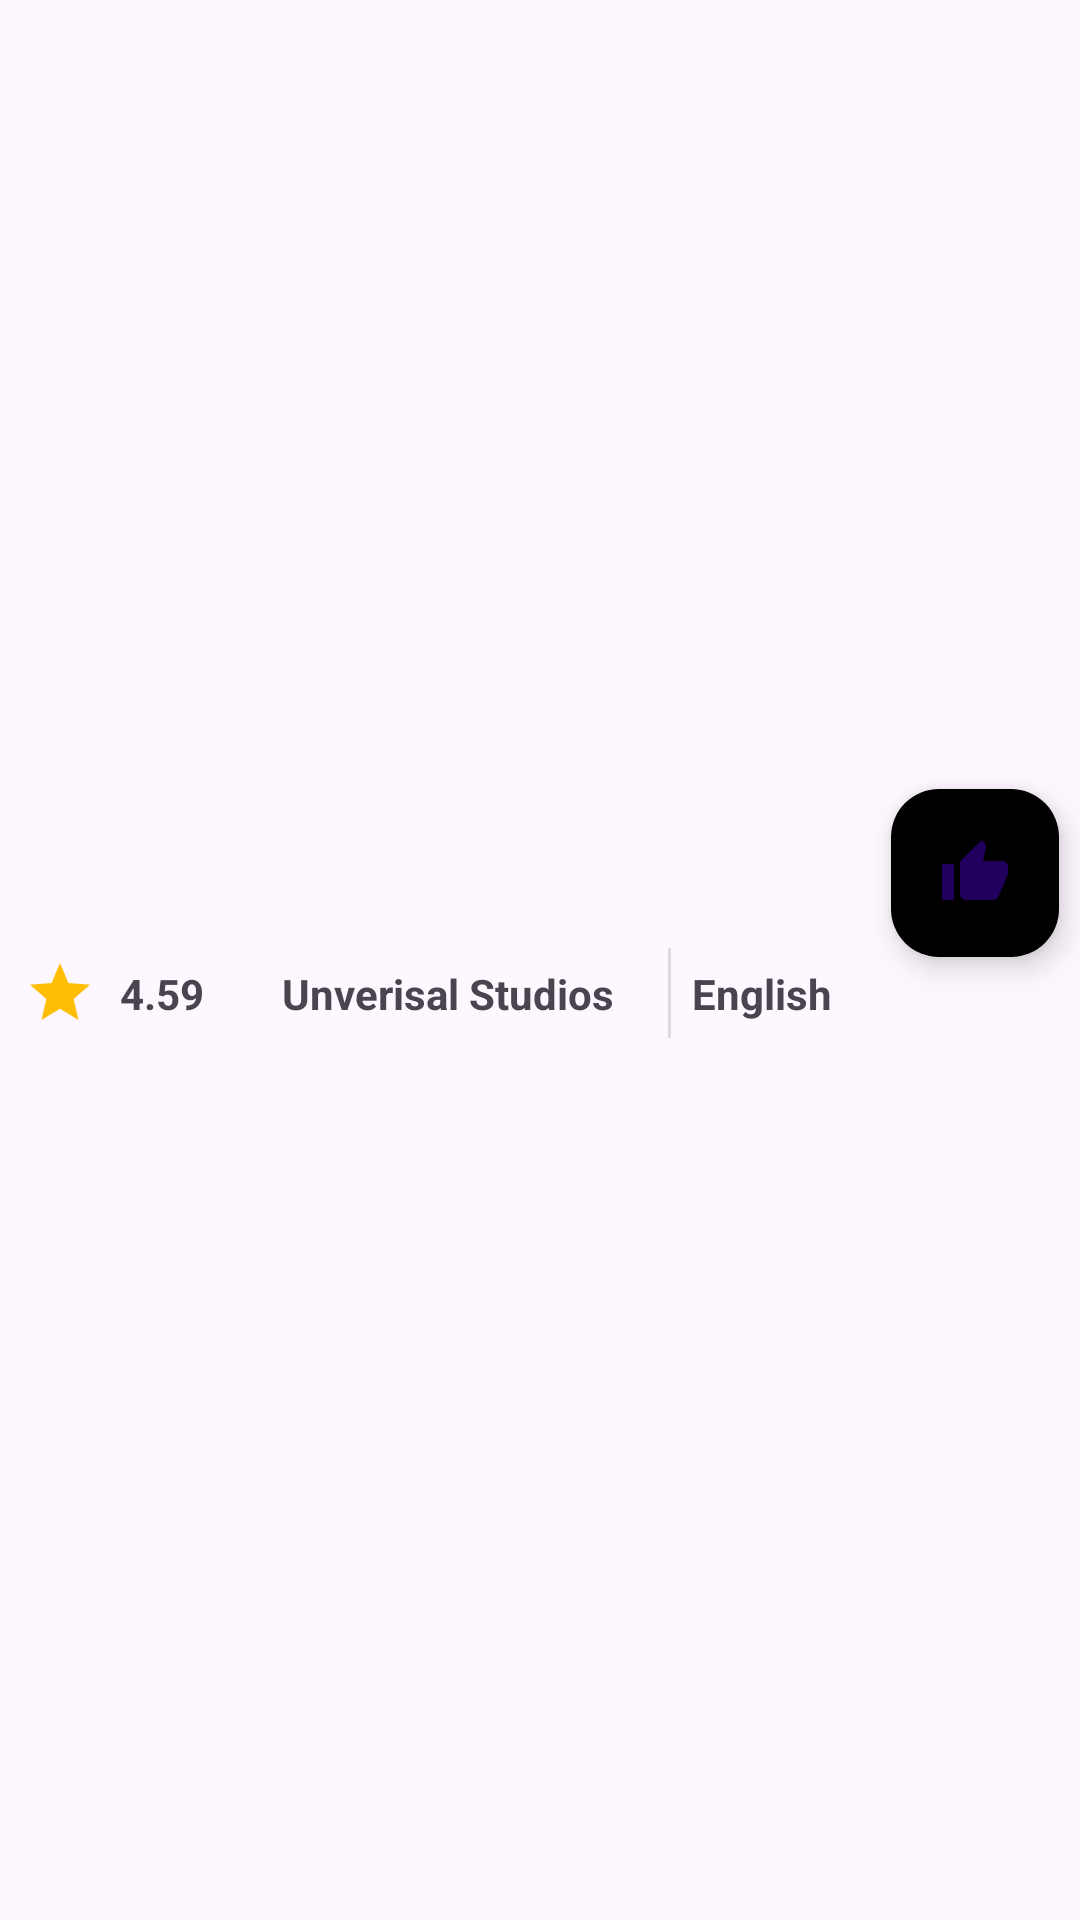

Screen size 1080px×1920px. Icon name, then its box in pixels as (x1, y1, x2, y2):
star: (30, 963, 90, 1020)
